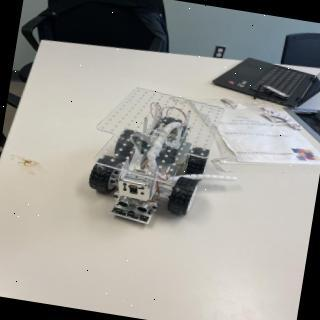vehicle: (82, 81, 228, 240)
